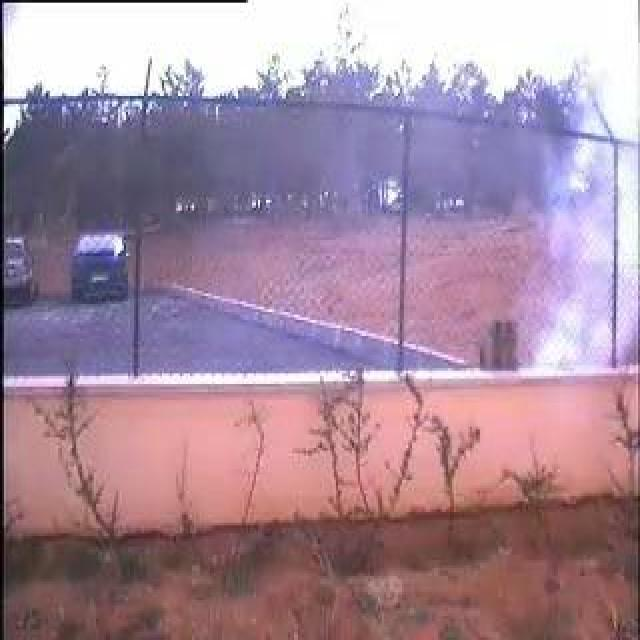Smoke: (517, 144, 619, 365)
